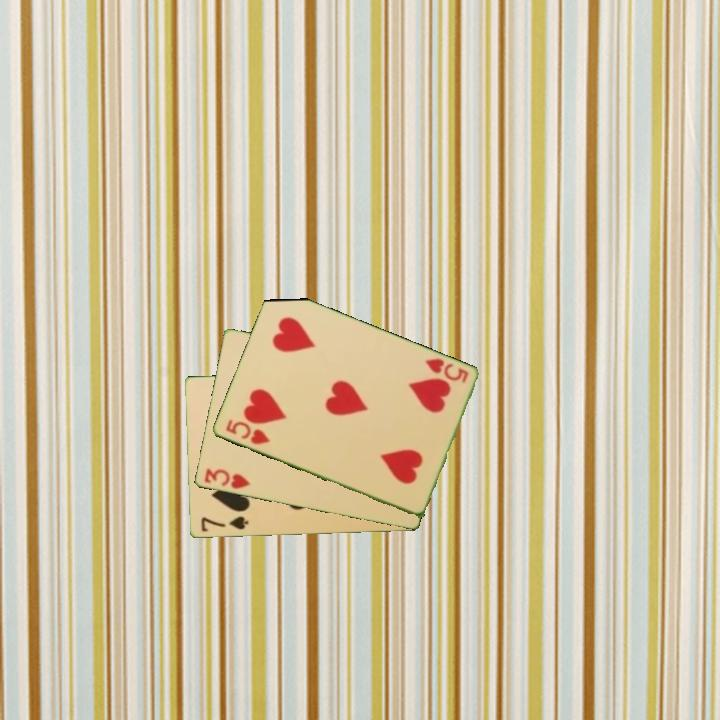3h: (200, 465, 253, 492)
5h: (222, 416, 272, 448), (421, 355, 471, 386)
7s: (197, 513, 251, 535)
